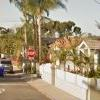Palm tree: (14, 1, 60, 67)
